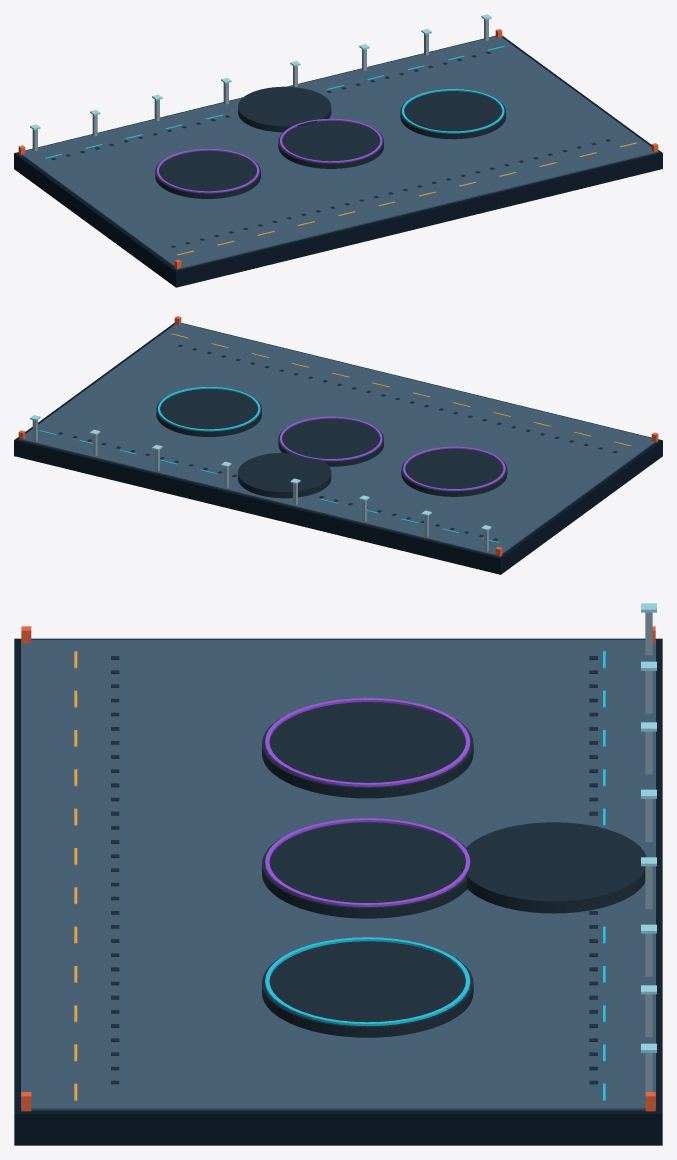
Rendered from 00_L78_IndustrialDielectricProtectionBase.fbx.
The picture shows the model from 3 angles, top to bottom: view 1: azimuth 30°, elevation 25°; view 2: azimuth 150°, elevation 25°; view 3: azimuth 270°, elevation 25°; orthographic projection. The views are drawn at different scales.
Visible parts, largest first — view 1: IndustrialDielectricProtectionBase; view 2: IndustrialDielectricProtectionBase; view 3: IndustrialDielectricProtectionBase.
Part boxes in pixels (left/top/right/bottom): IndustrialDielectricProtectionBase: left=14, top=14, right=662, bottom=287; IndustrialDielectricProtectionBase: left=14, top=316, right=662, bottom=574; IndustrialDielectricProtectionBase: left=14, top=603, right=662, bottom=1145.
Bounding box in the file's own units: 2115 × 169 × 1220.
